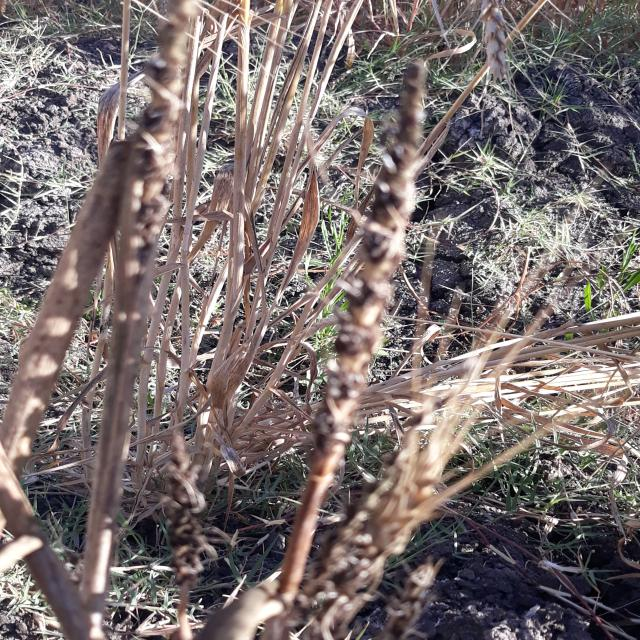loose_charred: (95, 0, 233, 440), (300, 45, 438, 474), (283, 463, 422, 632), (374, 556, 448, 640)
